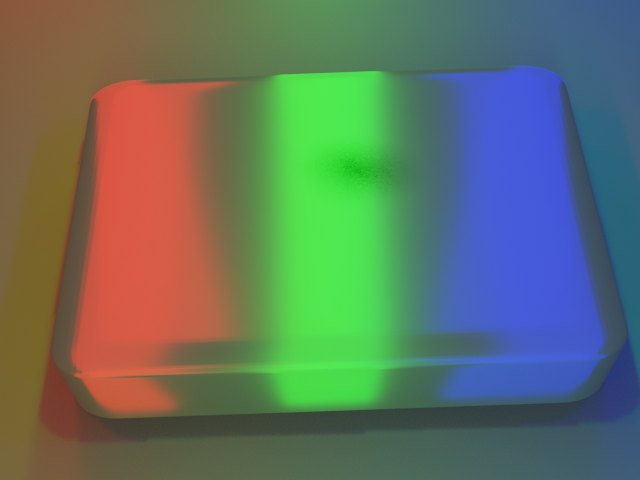stain: (249, 99, 453, 209)
